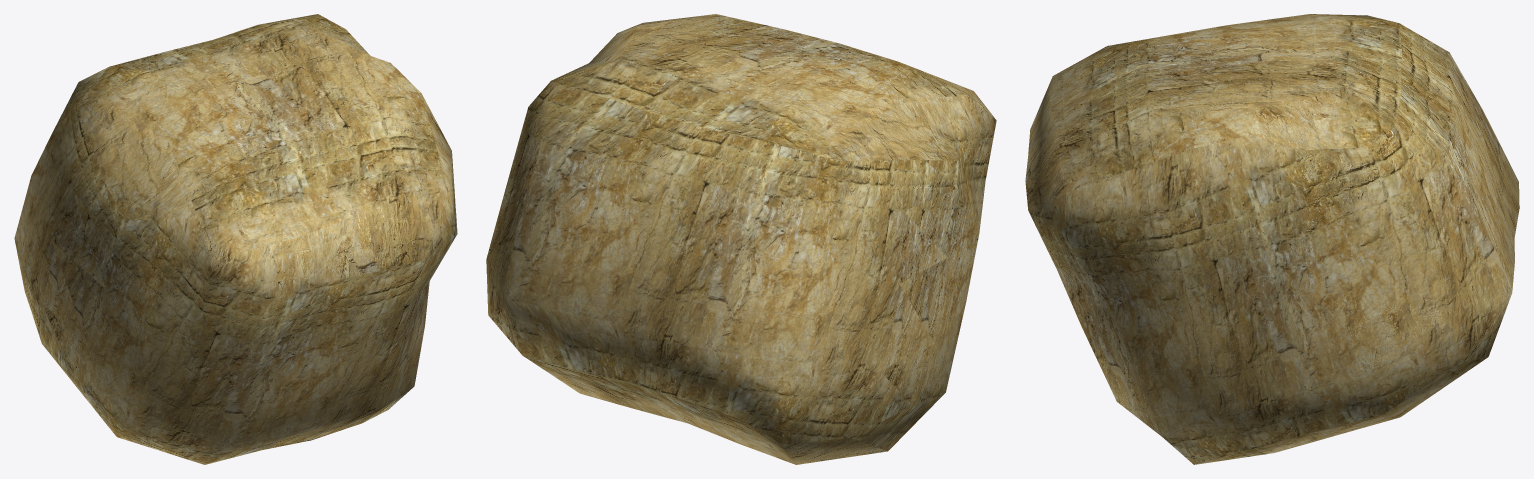
The model's file is Boulder1.dae.
The picture shows the model from 3 angles, left to right: view 1: azimuth 30°, elevation 25°; view 2: azimuth 150°, elevation 25°; view 3: azimuth 270°, elevation 25°; orthographic projection. The views are drawn at different scales.
Visible parts, largest first — view 1: rock0; view 2: rock0; view 3: rock0.
Boxes of the visible parts, bbox=[...] form: rock0: bbox=[14, 14, 457, 464]; rock0: bbox=[486, 14, 996, 464]; rock0: bbox=[1025, 14, 1519, 464].
Bounding box in the file's own units: 1.66 × 1.9 × 1.6.
